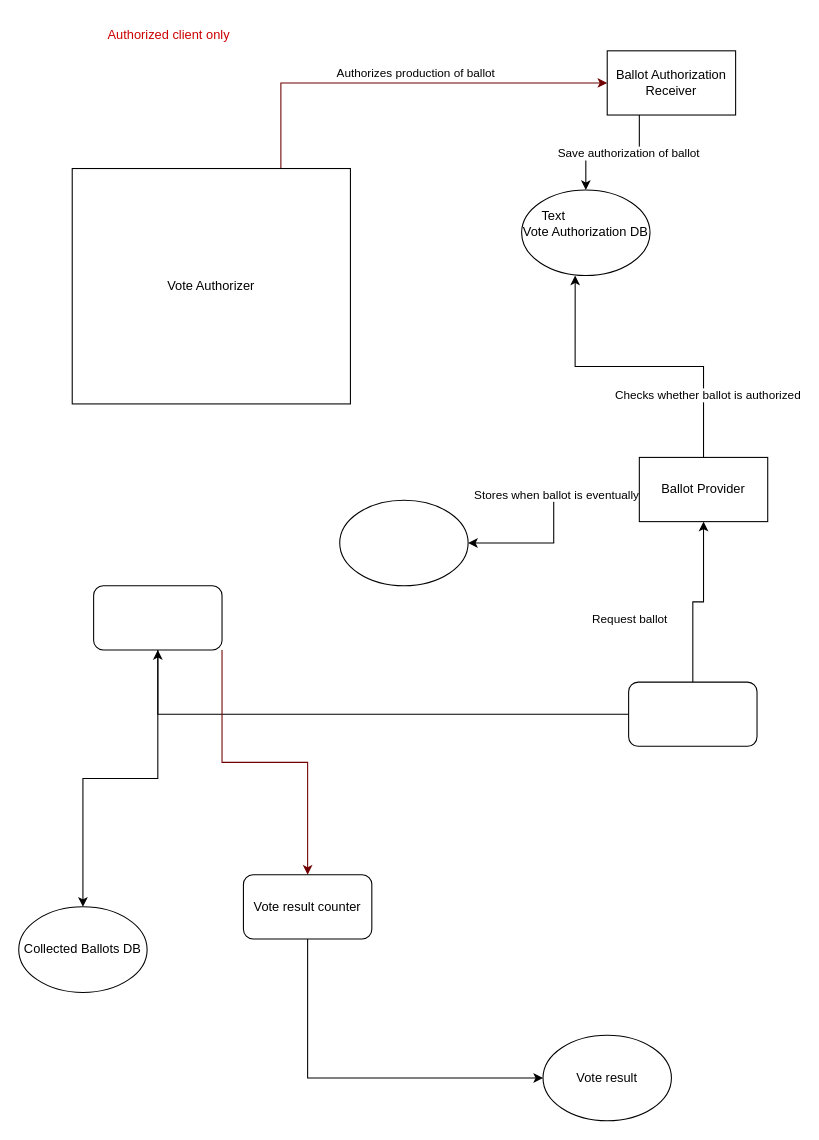
Some shapes in this 819 by 1140 pixel diagram are drawn without their labels. The box of each missing label's shape, as (x1, y1, x2, y2) in pixels:
Ballot Collector: (93, 585, 222, 650)
Ballot Issued DB: (339, 499, 468, 586)
Voter: (628, 681, 757, 746)
